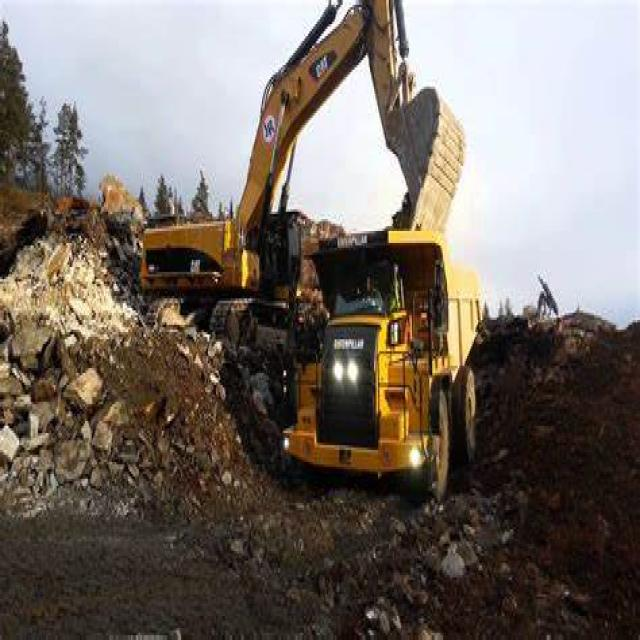dump_truck: (301, 217, 486, 498)
excavator: (128, 2, 473, 318)
